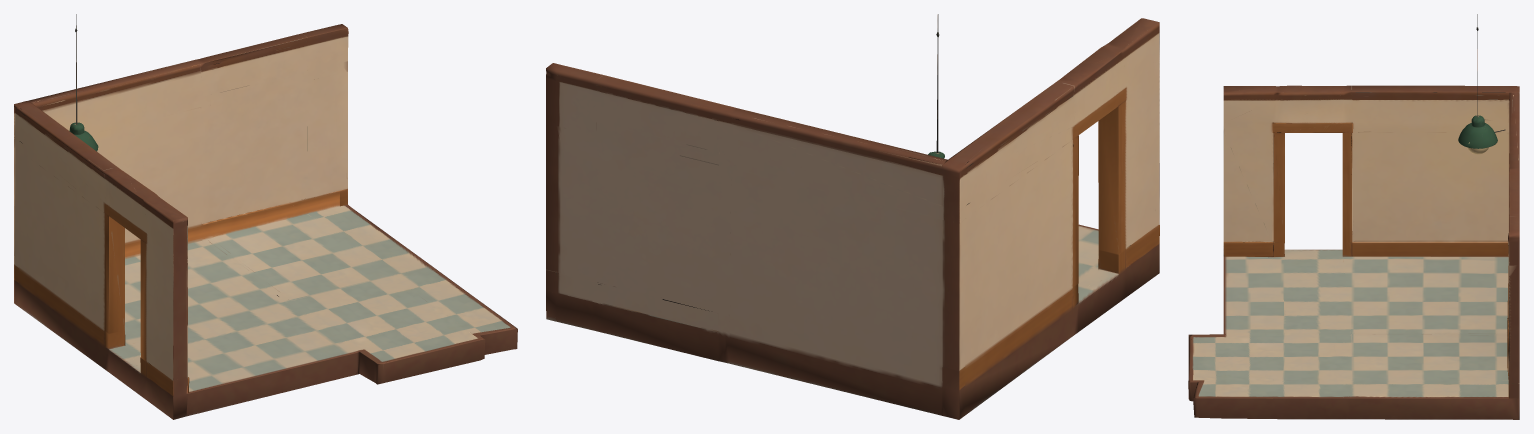
File: interior_shop_small.glb
3 renders of one model, left to right at view 1: azimuth 30°, elevation 25°; view 2: azimuth 150°, elevation 25°; view 3: azimuth 270°, elevation 25°, orthographic. The views are drawn at different scales.
Parts seen in each view (by area): view 1: geometry_0; view 2: geometry_0; view 3: geometry_0.
Part boxes in pixels (x1,y1,x2,y2): geometry_0: [14, 14, 517, 419]; geometry_0: [546, 14, 1159, 419]; geometry_0: [1188, 14, 1519, 419].
Size of the model in its own units: 2.91 by 2.5 by 2.73.
1 material, 1 textured.
